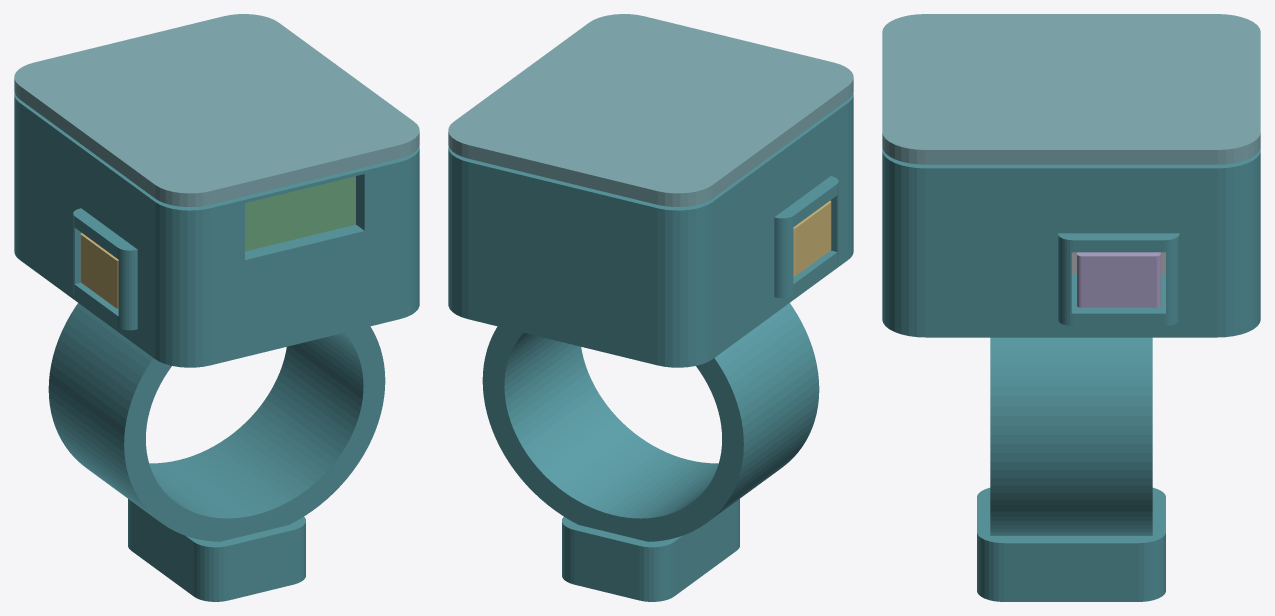
The model's file is Right_3Button.glb.
3 views of the same model, side by side, from view 1: azimuth 30°, elevation 25°; view 2: azimuth 150°, elevation 25°; view 3: azimuth 270°, elevation 25° (orthographic). The views are drawn at different scales.
Visible parts, largest first — view 1: Band_Pod, Lift_Off_Lid, Board_Envelope, Thumb_Click_Cap; view 2: Band_Pod, Lift_Off_Lid, Thumb_Click_Cap; view 3: Band_Pod, Lift_Off_Lid, Far_Side_Cap.
Boxes of the visible parts, left/top/right/bottom form: Band_Pod: left=14, top=93, right=419, bottom=601; Lift_Off_Lid: left=14, top=14, right=419, bottom=206; Board_Envelope: left=245, top=176, right=355, bottom=251; Thumb_Click_Cap: left=80, top=233, right=118, bottom=308; Band_Pod: left=448, top=93, right=853, bottom=601; Lift_Off_Lid: left=448, top=14, right=853, bottom=206; Thumb_Click_Cap: left=793, top=200, right=831, bottom=276; Band_Pod: left=882, top=148, right=1260, bottom=601; Lift_Off_Lid: left=882, top=14, right=1260, bottom=164; Far_Side_Cap: left=1077, top=252, right=1160, bottom=307.
Size of the model in its own units: 0.0262 by 0.0407 by 0.028.
